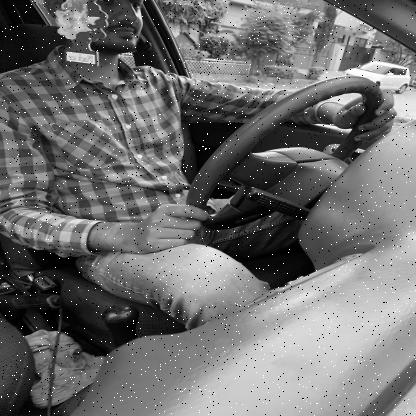no_seatbelt: (31, 6, 191, 182)
